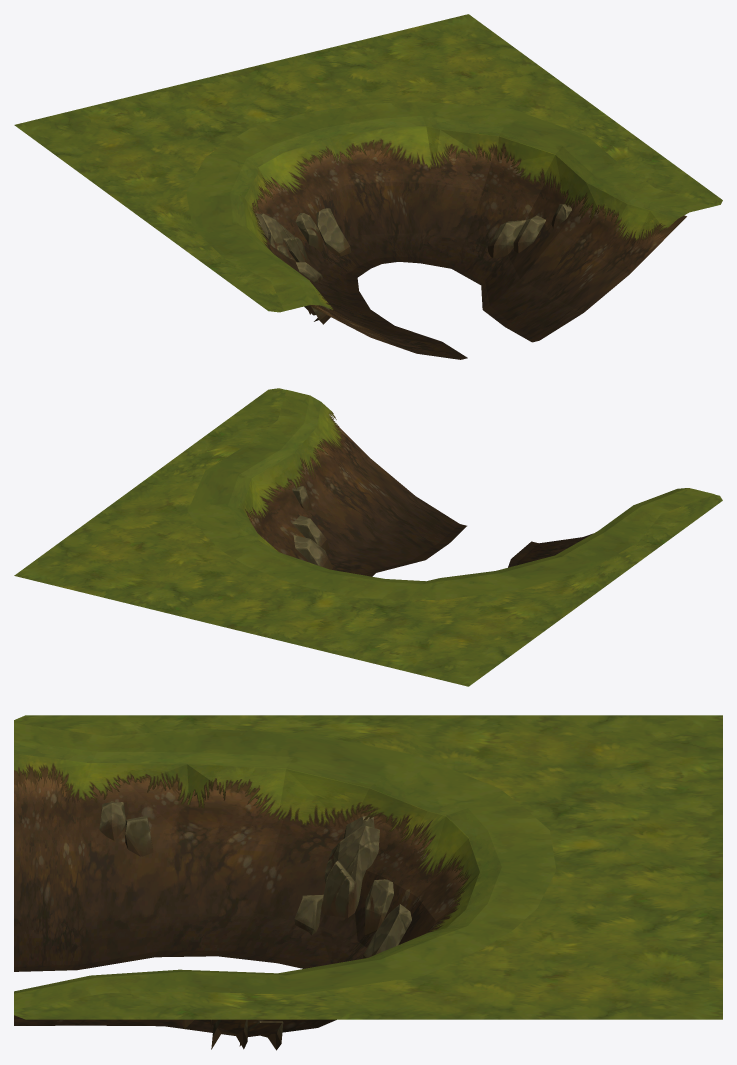
File: tundra_niche_riverbed01.fbx
3 views of the same model, one above another, from view 1: azimuth 30°, elevation 25°; view 2: azimuth 150°, elevation 25°; view 3: azimuth 270°, elevation 25° (orthographic). The views are drawn at different scales.
Parts seen in each view (by area): view 1: obj3.014; view 2: obj3.014; view 3: obj3.014.
Part boxes in pixels (box(x1,y1,x2,y2)): obj3.014: box(14, 14, 722, 359); obj3.014: box(14, 388, 722, 686); obj3.014: box(14, 715, 722, 1050).
Size of the model in its own units: 20.65 by 4.19 by 20.34.
